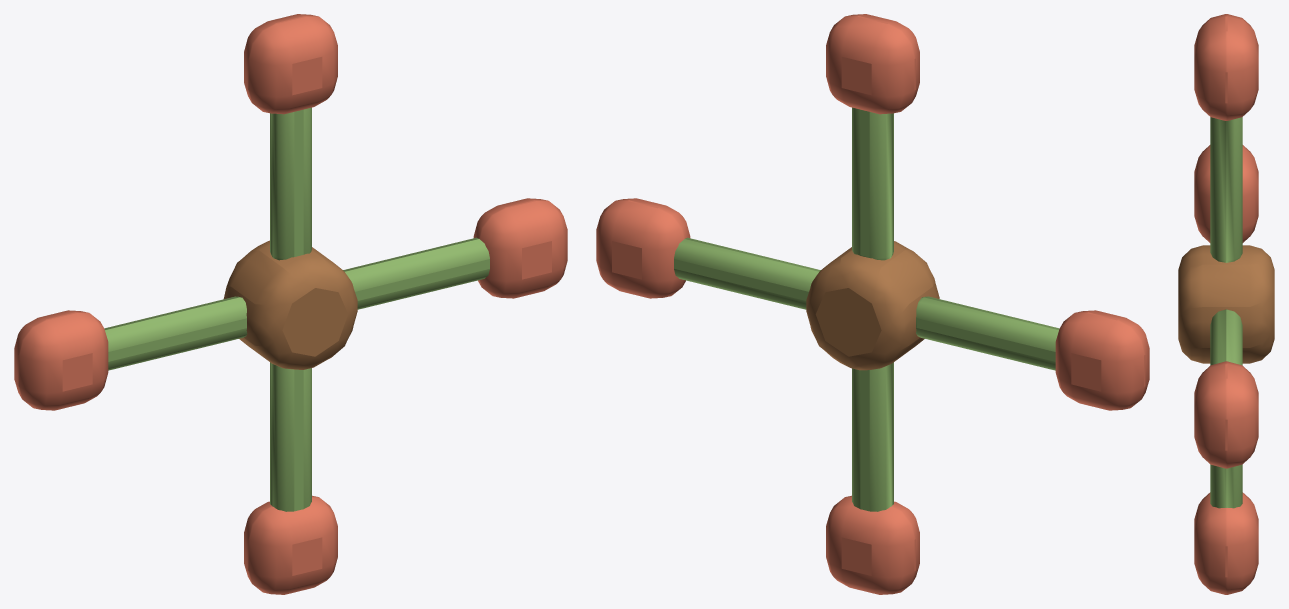
File: scoop_wheel.glb
3 renders of one model, left to right at view 1: azimuth 30°, elevation 25°; view 2: azimuth 150°, elevation 25°; view 3: azimuth 270°, elevation 25°, orthographic.
Visible parts, largest first — view 1: arm_0; view 2: arm_0; view 3: arm_0.
Boxes of the visible parts, x1=… form: arm_0: x1=14, y1=14, x2=567, y2=594; arm_0: x1=596, y1=14, x2=1149, y2=594; arm_0: x1=1178, y1=14, x2=1274, y2=594.
Bounding box in the file's own units: 0.725 × 0.725 × 0.1125.
